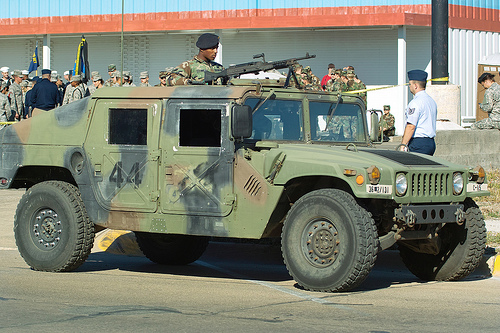rifle: (222, 52, 316, 77)
rifle in hand: (203, 51, 323, 84)
